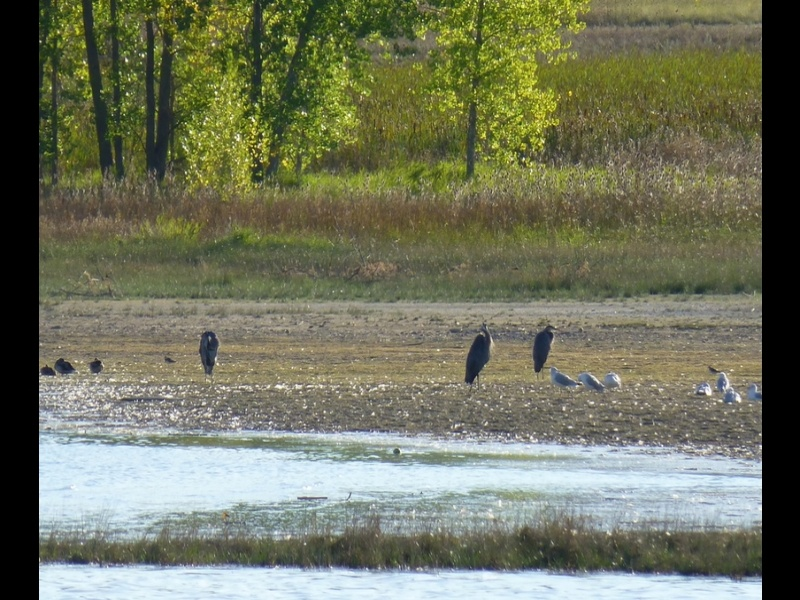heron: (459, 323, 498, 389), (531, 324, 557, 379), (199, 331, 219, 380)
